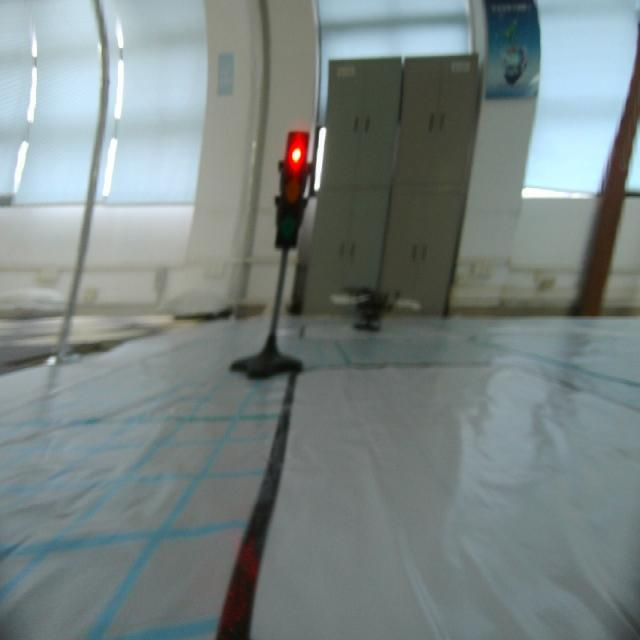red: (270, 121, 312, 254)
